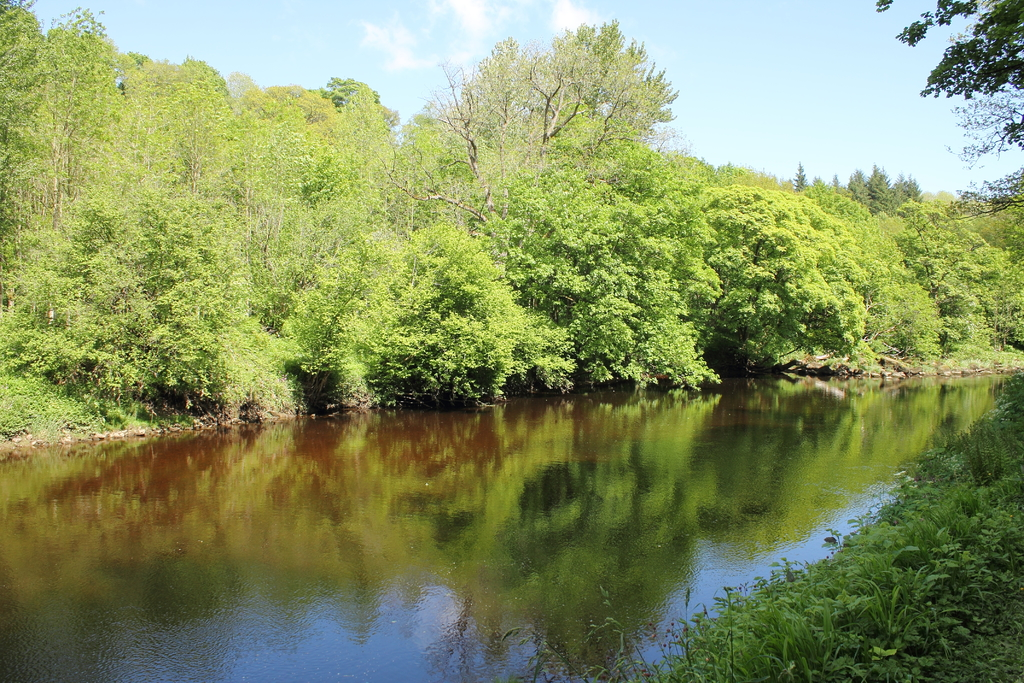Tree: (0, 0, 1024, 420)
